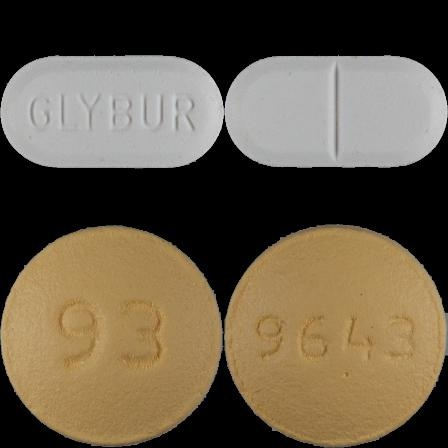0093-9477: (0, 0, 224, 224)
